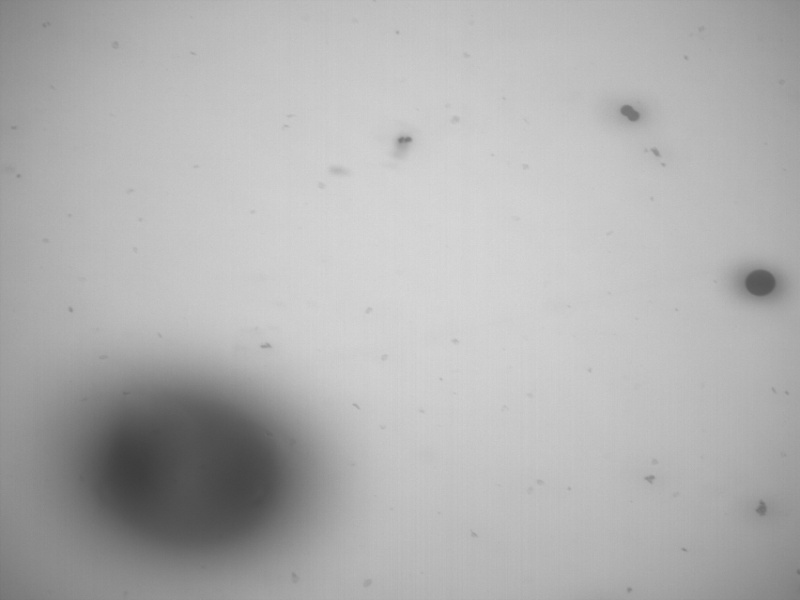bead: (89, 390, 290, 553), (744, 268, 777, 297), (626, 109, 642, 123), (619, 102, 634, 116)
